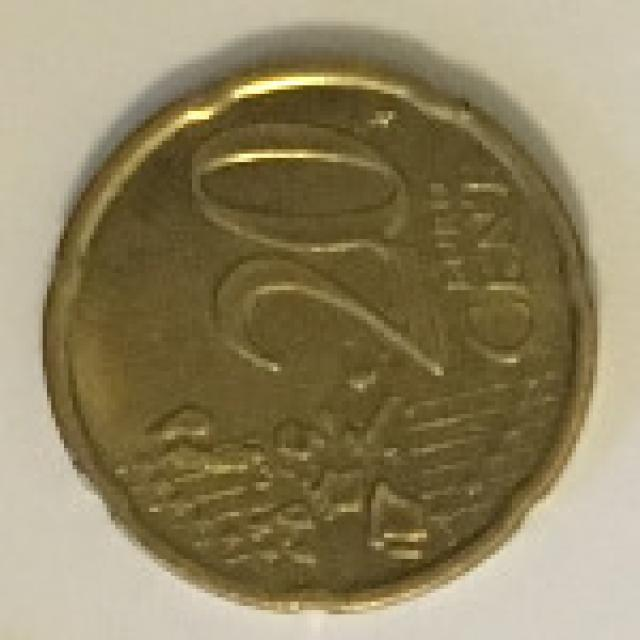20c: (30, 34, 614, 623)
